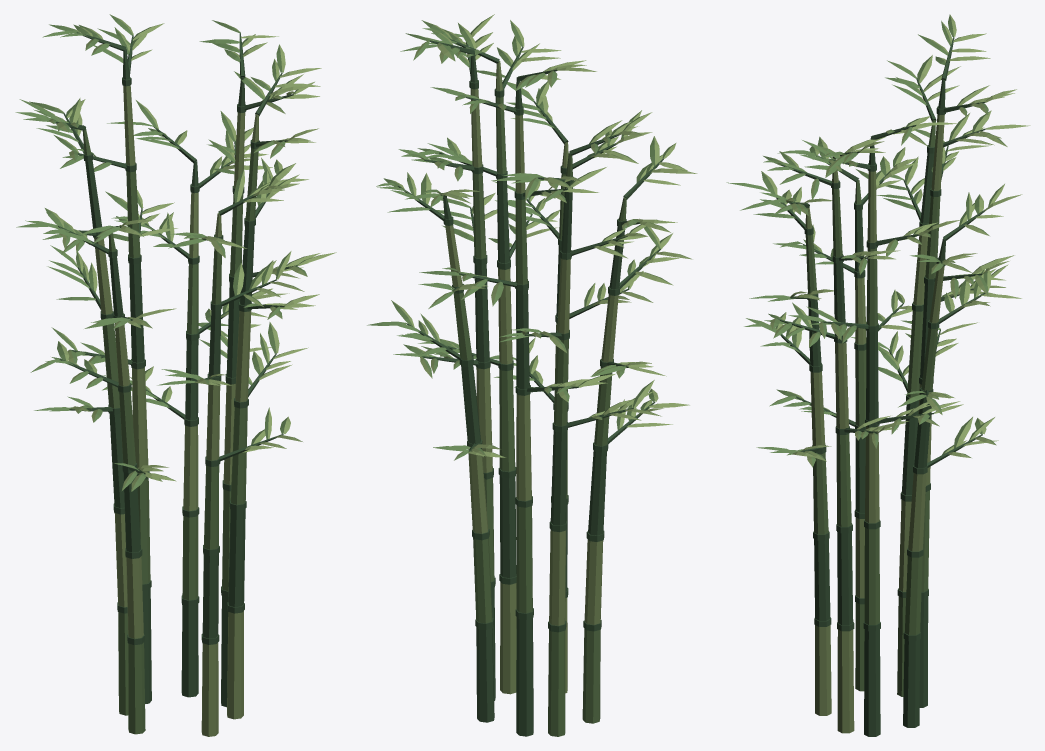
The model's file is bamboo.glb.
The picture shows the model from 3 angles, left to right: view 1: azimuth 30°, elevation 25°; view 2: azimuth 150°, elevation 25°; view 3: azimuth 270°, elevation 25°; orthographic projection. The views are drawn at different scales.
Visible parts, largest first — view 1: Segmented bamboo culms and branch runners, Lanceolate leaf sprays; view 2: Segmented bamboo culms and branch runners, Lanceolate leaf sprays; view 3: Segmented bamboo culms and branch runners, Lanceolate leaf sprays.
Boxes of the visible parts, box(x1,y1,x2,y2) form: Segmented bamboo culms and branch runners: box(55, 32, 297, 736); Lanceolate leaf sprays: box(15, 14, 336, 491); Segmented bamboo culms and branch runners: box(397, 38, 663, 736); Lanceolate leaf sprays: box(367, 14, 697, 460); Segmented bamboo culms and branch runners: box(776, 36, 985, 736); Lanceolate leaf sprays: box(726, 14, 1030, 467).
Size of the model in its own units: 2.92 by 6.72 by 2.85.
